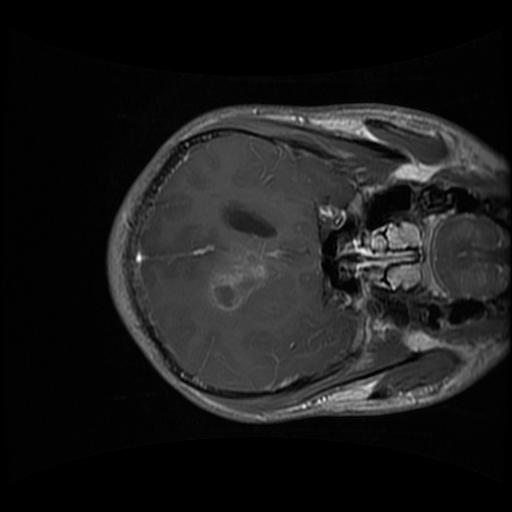glioma: (204, 244, 279, 313)
